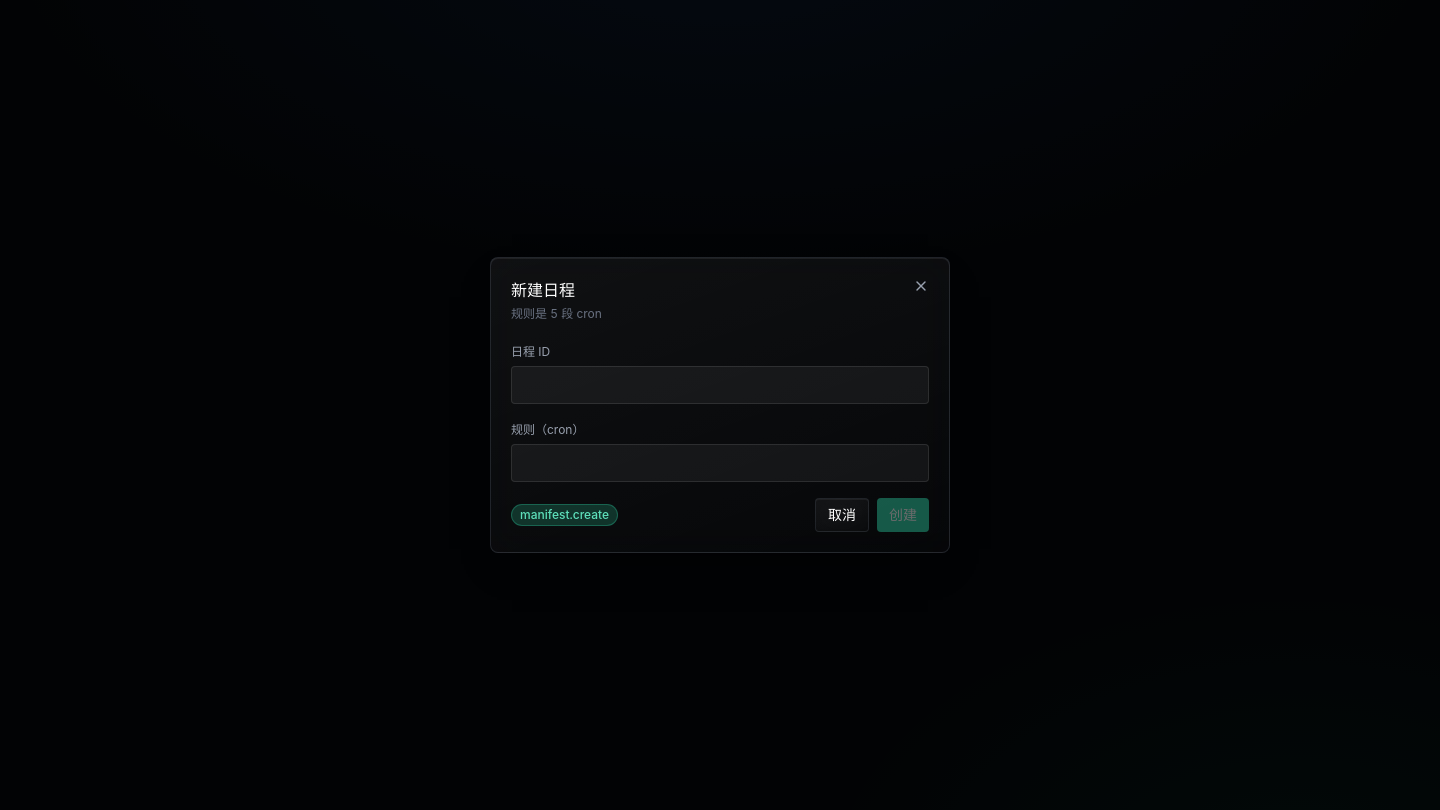
Test: 通用参数表单 › 必填项没填时不能提交
This screenshot has width=1440, height=810.
expect the button "创建" is disabled: met, box [877,498,929,532]
Type "daily-report" into the field labelled "日程 ID" at {"x": 720, "y": 385}, box [511,366,929,404]
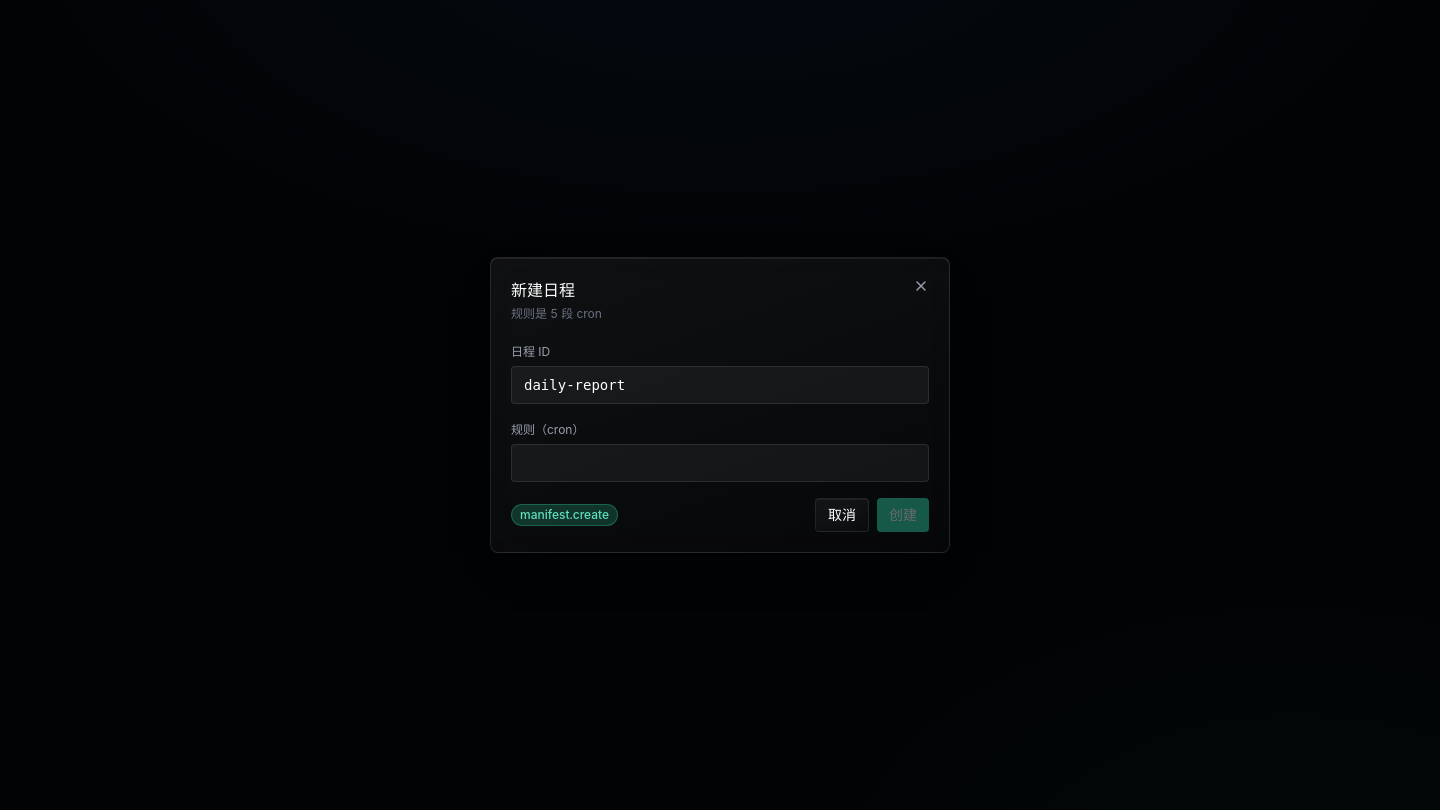
expect the button "创建" is disabled: met, box [877,498,929,532]
Type "0 9 * * *" into the field labelled "规则（cron）" at {"x": 720, "y": 463}, box [511,444,929,482]
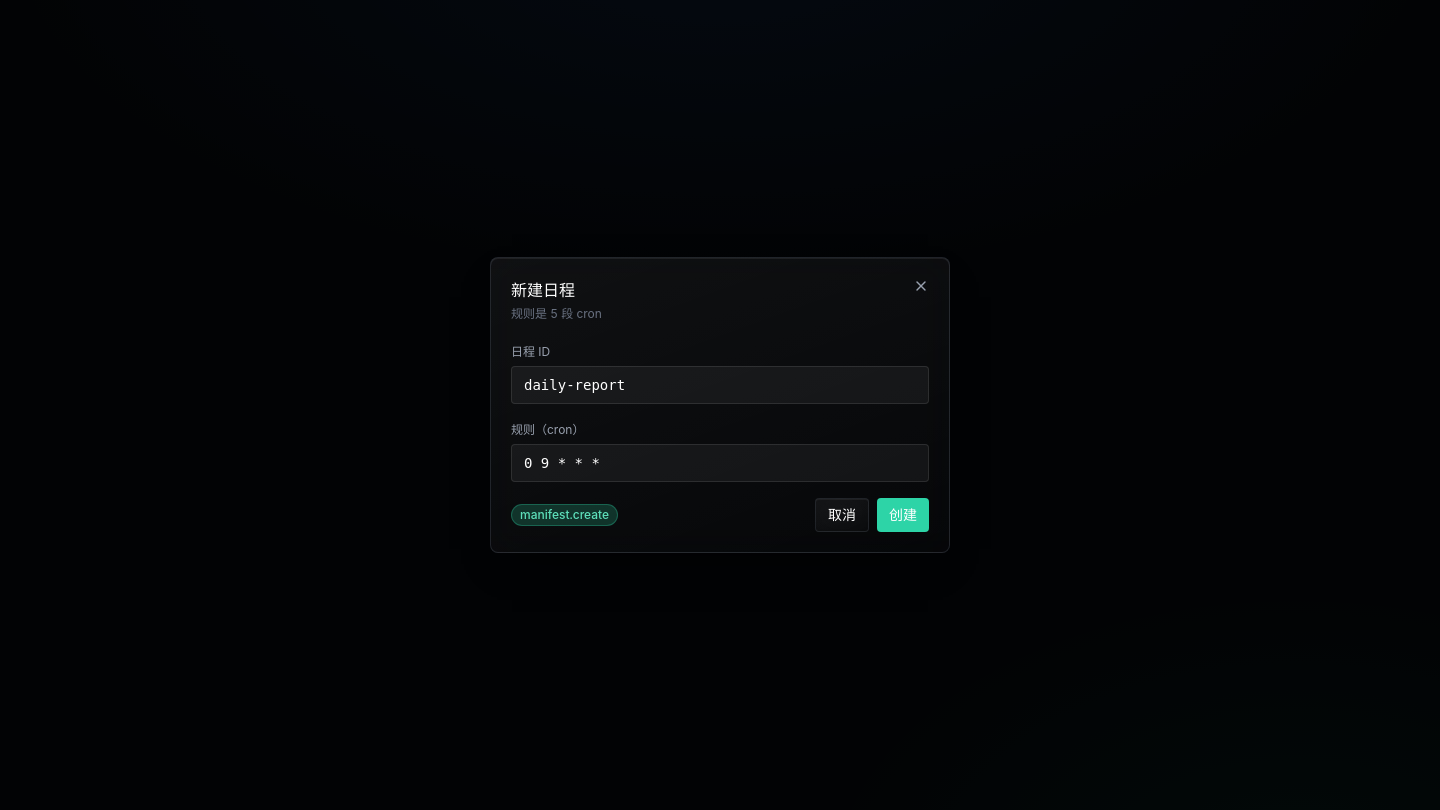
expect the button "创建" is enabled: met, box [877,498,929,532]
